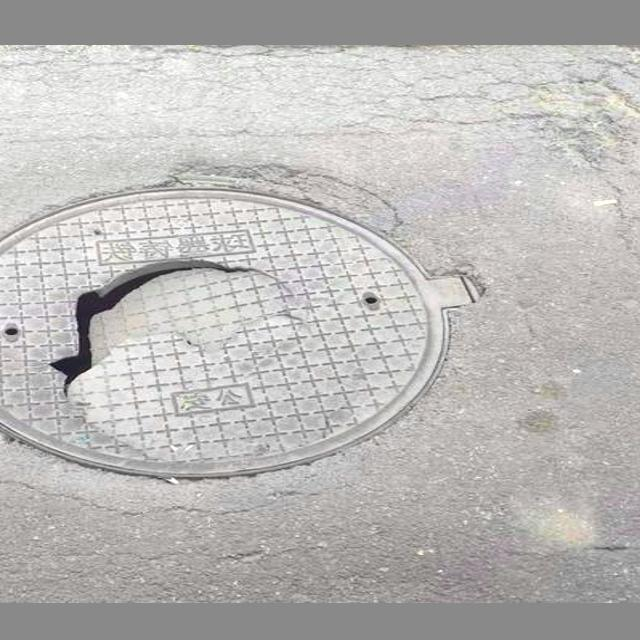broke: (0, 175, 467, 501)
